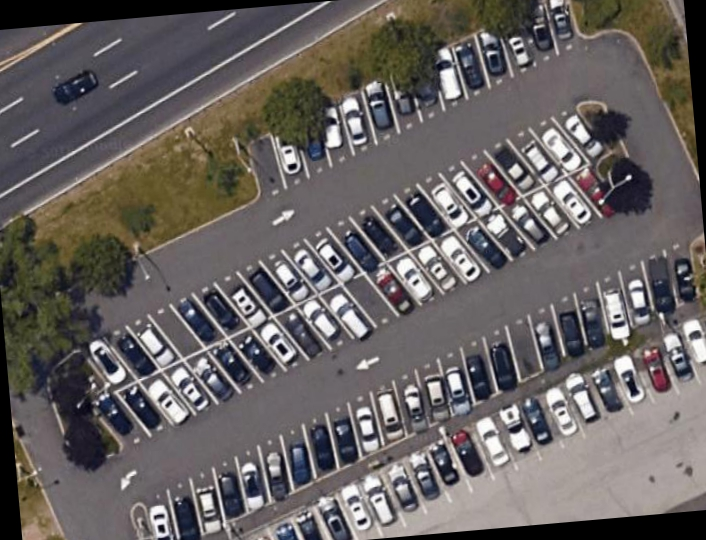parkingspot: (73, 100, 642, 453), (141, 233, 703, 540), (233, 311, 706, 540), (245, 0, 583, 206)
